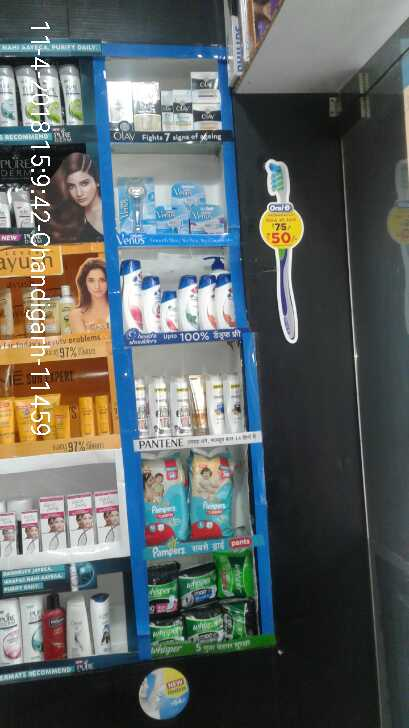venus: (120, 175, 155, 232), (190, 204, 224, 234), (157, 206, 188, 233), (171, 181, 204, 204)
